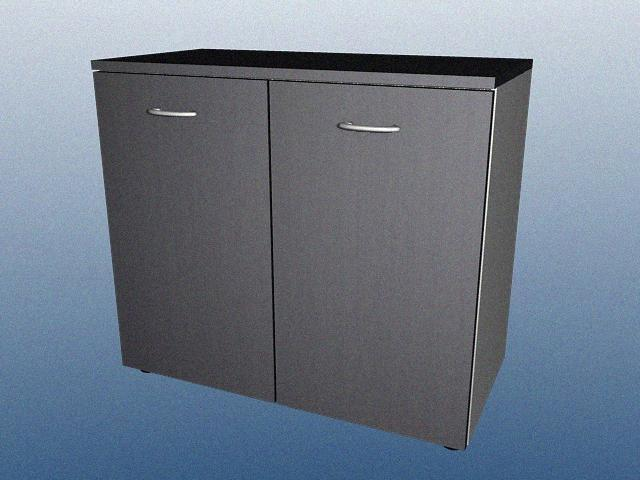cabinet_door: (272, 87, 479, 427), (108, 77, 272, 384)
handle: (330, 110, 403, 141), (144, 101, 199, 121)
